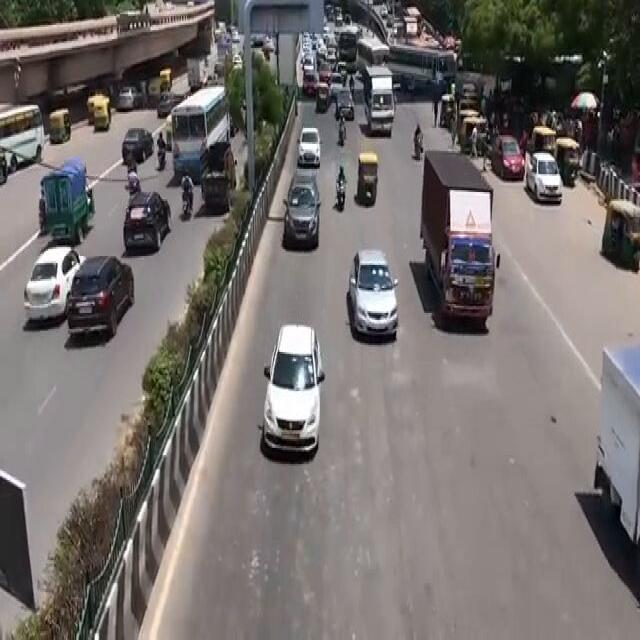three_wheeler: (349, 148, 386, 215)
